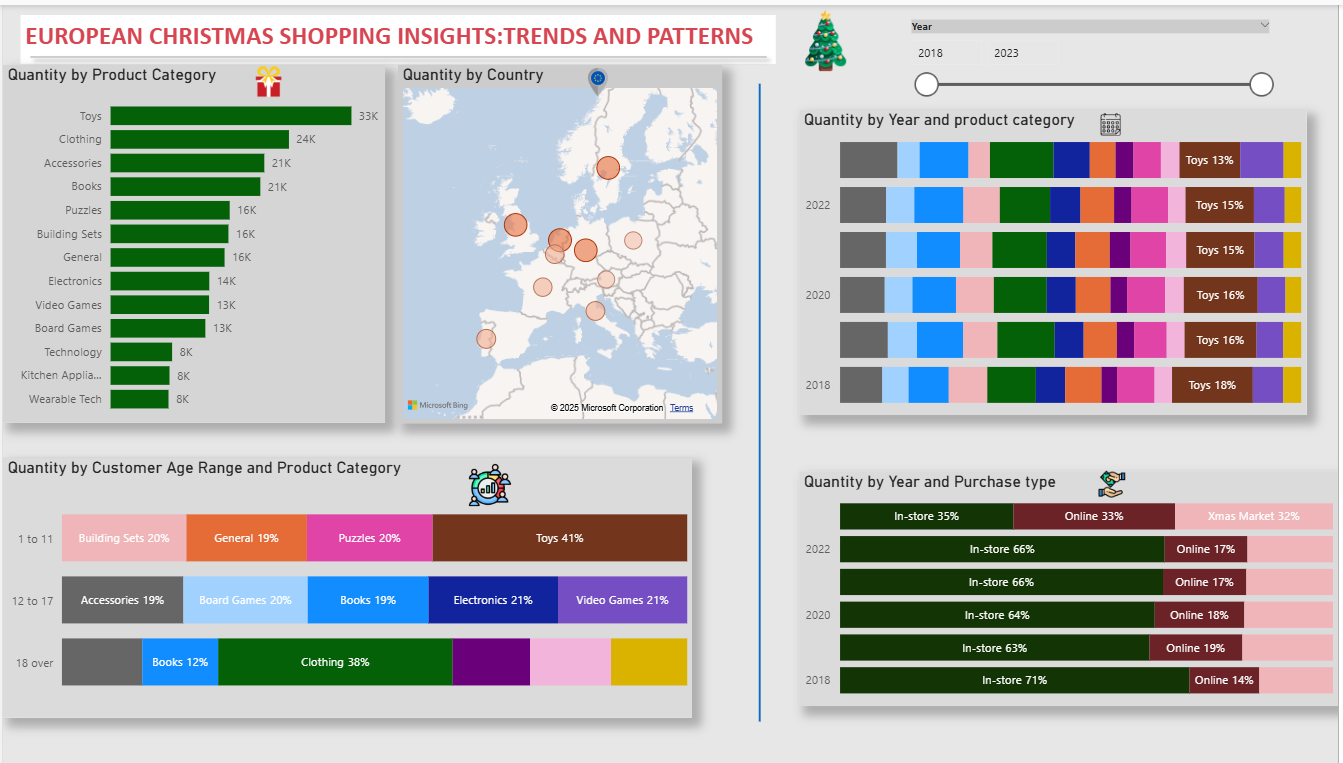

Layout of this report page (visuals, bound fields, positions):
{"tool":"powerbi","page":{"name":"Page 1","canvas":[1400,800],"ordinal":0},"visuals":[{"type":"image","box":[822.1,0,82.1,75.7],"z":0},{"type":"textbox","box":[18.7,10.9,791.8,51.3],"z":1000},{"type":"shape","box":[19.5,0,790.3,109],"z":2000},{"type":"clusteredBarChart","title":"Quantity by Product Category","fields":{"Category":["EUROPEAN.Product Category"],"Y":["EUROPEAN.TOTAL QUANTITY"]},"box":[0,63.1,400.8,375.6],"z":3000},{"type":"map","title":" Quantity by Country","fields":{"Category":["EUROPEAN.Country"],"Size":["EUROPEAN.TOTAL QUANTITY"]},"box":[414.4,62.5,339.7,376.4],"z":4000},{"type":"hundredPercentStackedBarChart","title":" Quantity by Customer Age Range and Product Category","fields":{"Category":["EUROPEAN.Customer Age Range"],"Y":["EUROPEAN.TOTAL QUANTITY"],"Series":["EUROPEAN.Product Category"]},"box":[0,475,722.7,273],"z":5000},{"type":"hundredPercentStackedBarChart","title":" Quantity by Year and Purchase type","fields":{"Y":["EUROPEAN.TOTAL QUANTITY"],"Category":["EUROPEAN.Date.Variation.Date Hierarchy.Year"],"Series":["EUROPEAN.Purchase Type"]},"box":[834.8,489.2,564.9,246.2],"z":6000},{"type":"hundredPercentStackedBarChart","title":"Quantity by Year and product category","fields":{"Y":["EUROPEAN.TOTAL QUANTITY"],"Series":["EUROPEAN.Product Category"],"Category":["EUROPEAN.Date.Variation.Date Hierarchy.Year"]},"box":[834.8,110.5,531.8,320.3],"z":7000},{"type":"shape","box":[643.8,82.1,299.8,669.1],"z":8000},{"type":"image","box":[256.8,54.3,43.5,53],"z":9000},{"type":"image","box":[604.6,53,39.4,57.1],"z":10000},{"type":"image","box":[479.6,475.5,61.1,55.7],"z":11000},{"type":"image","box":[1144,108.7,34,32.6],"z":12000},{"type":"image","box":[1131.8,483.7,62.5,38],"z":13000},{"type":"slicer","fields":{"Values":["EUROPEAN.Date.Variation.Date Hierarchy.Year"]},"box":[940.2,10.9,400.8,96.5],"z":14000}]}

Visuals, with their boxes in screenshot pixels (x1, y1, x2, y2), scaled from the page's 1400x800 canvas onto the 1343x763 screenshot:
image: rect(789, 0, 867, 72)
textbox: rect(18, 10, 778, 59)
shape: rect(19, 0, 777, 104)
"Quantity by Product Category" clusteredBarChart: rect(0, 60, 384, 418)
" Quantity by Country" map: rect(398, 60, 723, 419)
" Quantity by Customer Age Range and Product Category" hundredPercentStackedBarChart: rect(0, 453, 693, 713)
" Quantity by Year and Purchase type" hundredPercentStackedBarChart: rect(801, 467, 1342, 701)
"Quantity by Year and product category" hundredPercentStackedBarChart: rect(801, 105, 1311, 411)
shape: rect(618, 78, 905, 716)
image: rect(246, 52, 288, 102)
image: rect(580, 51, 618, 105)
image: rect(460, 454, 519, 507)
image: rect(1097, 104, 1130, 135)
image: rect(1086, 461, 1146, 498)
slicer - EUROPEAN.Date.Variation.Date Hierarchy.Year: rect(902, 10, 1286, 102)
